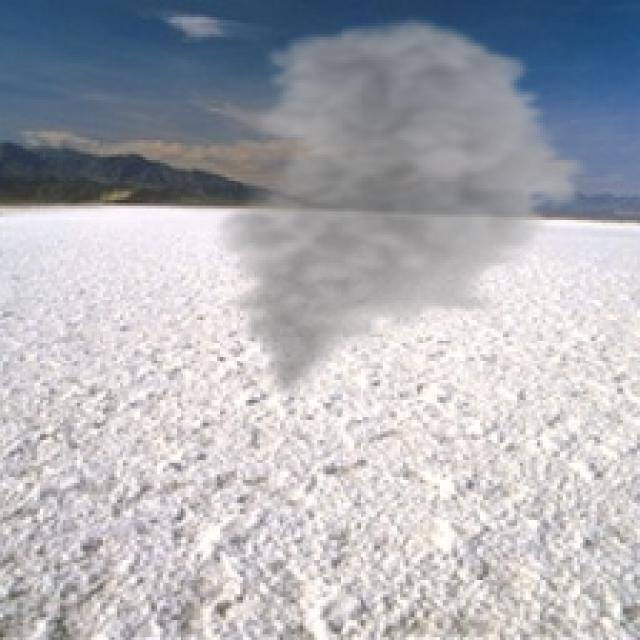Smoke: (202, 14, 594, 400)
